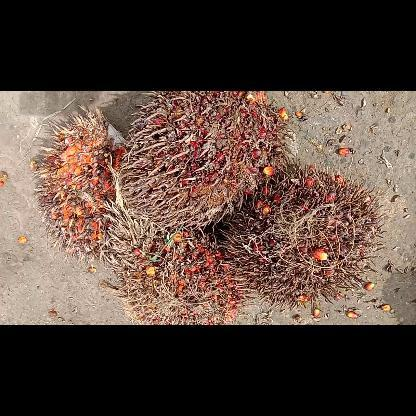Terlalu masak: (220, 165, 384, 311), (119, 91, 289, 229), (104, 200, 246, 324), (34, 105, 130, 259)
